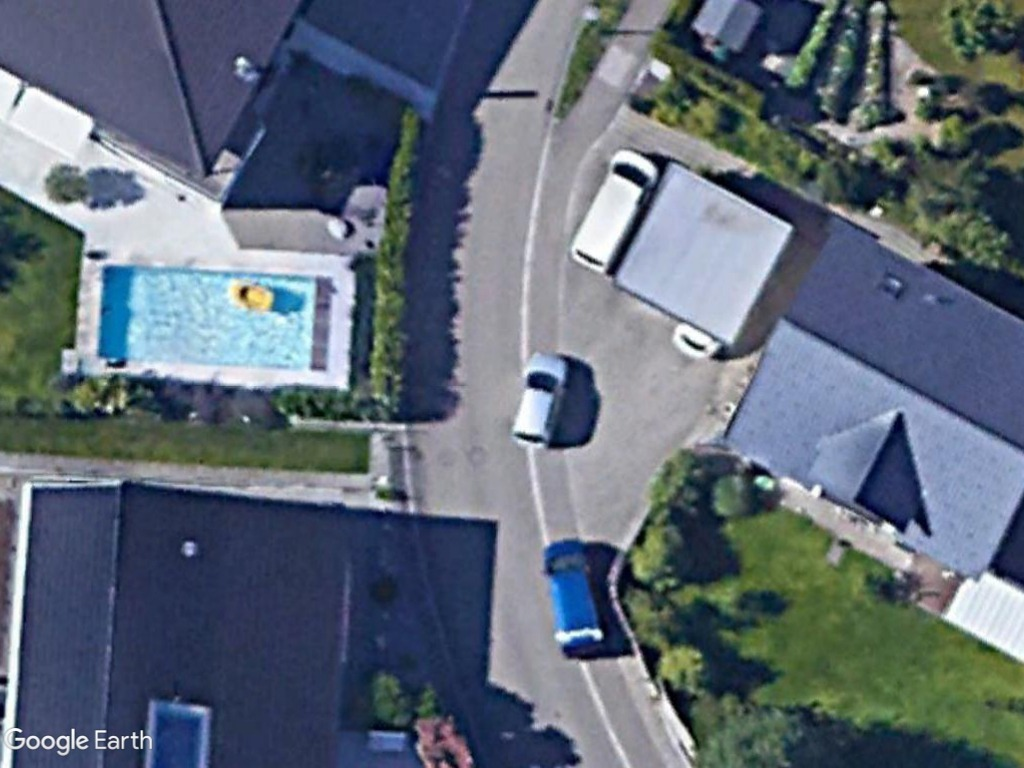car: (511, 349, 573, 453)
van: (566, 147, 664, 277), (543, 534, 606, 660)
